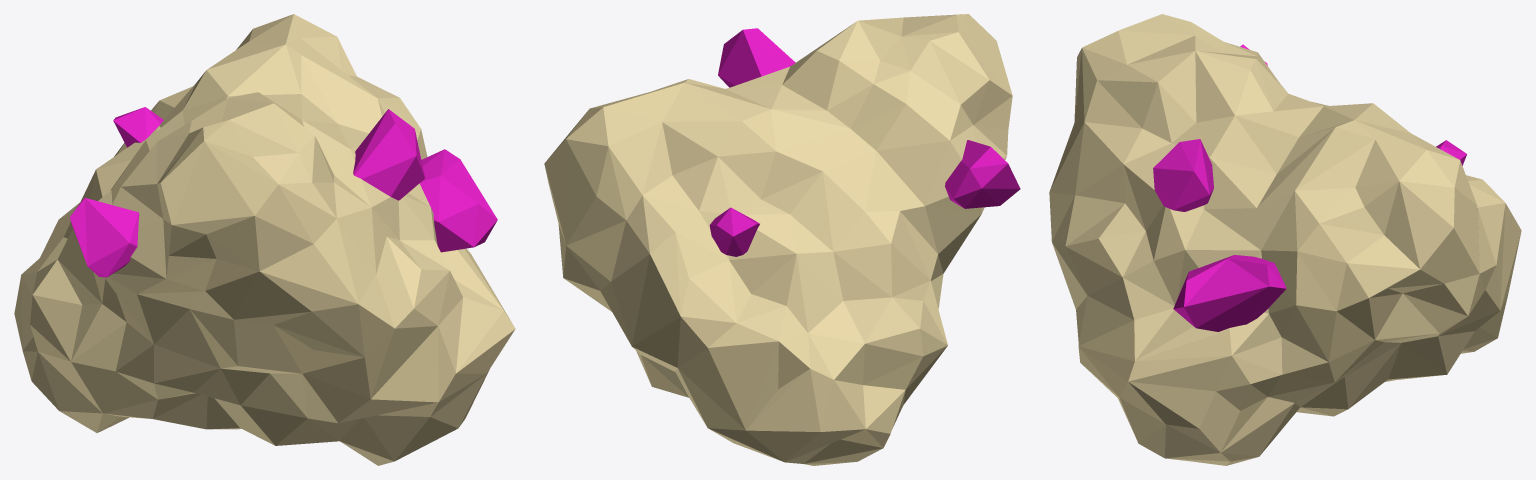
File: CrystalOre (35).fbx
3 views of the same model, side by side, from view 1: azimuth 30°, elevation 25°; view 2: azimuth 150°, elevation 25°; view 3: azimuth 270°, elevation 25° (orthographic). The views are drawn at different scales.
Parts seen in each view (by area): view 1: Asteroid255; view 2: Asteroid255; view 3: Asteroid255.
Boxes of the visible parts, x1=… form: Asteroid255: x1=14, y1=14, x2=515, y2=465; Asteroid255: x1=544, y1=14, x2=1020, y2=465; Asteroid255: x1=1049, y1=14, x2=1521, y2=465.
Size of the model in its own units: 476 by 432 by 508.
